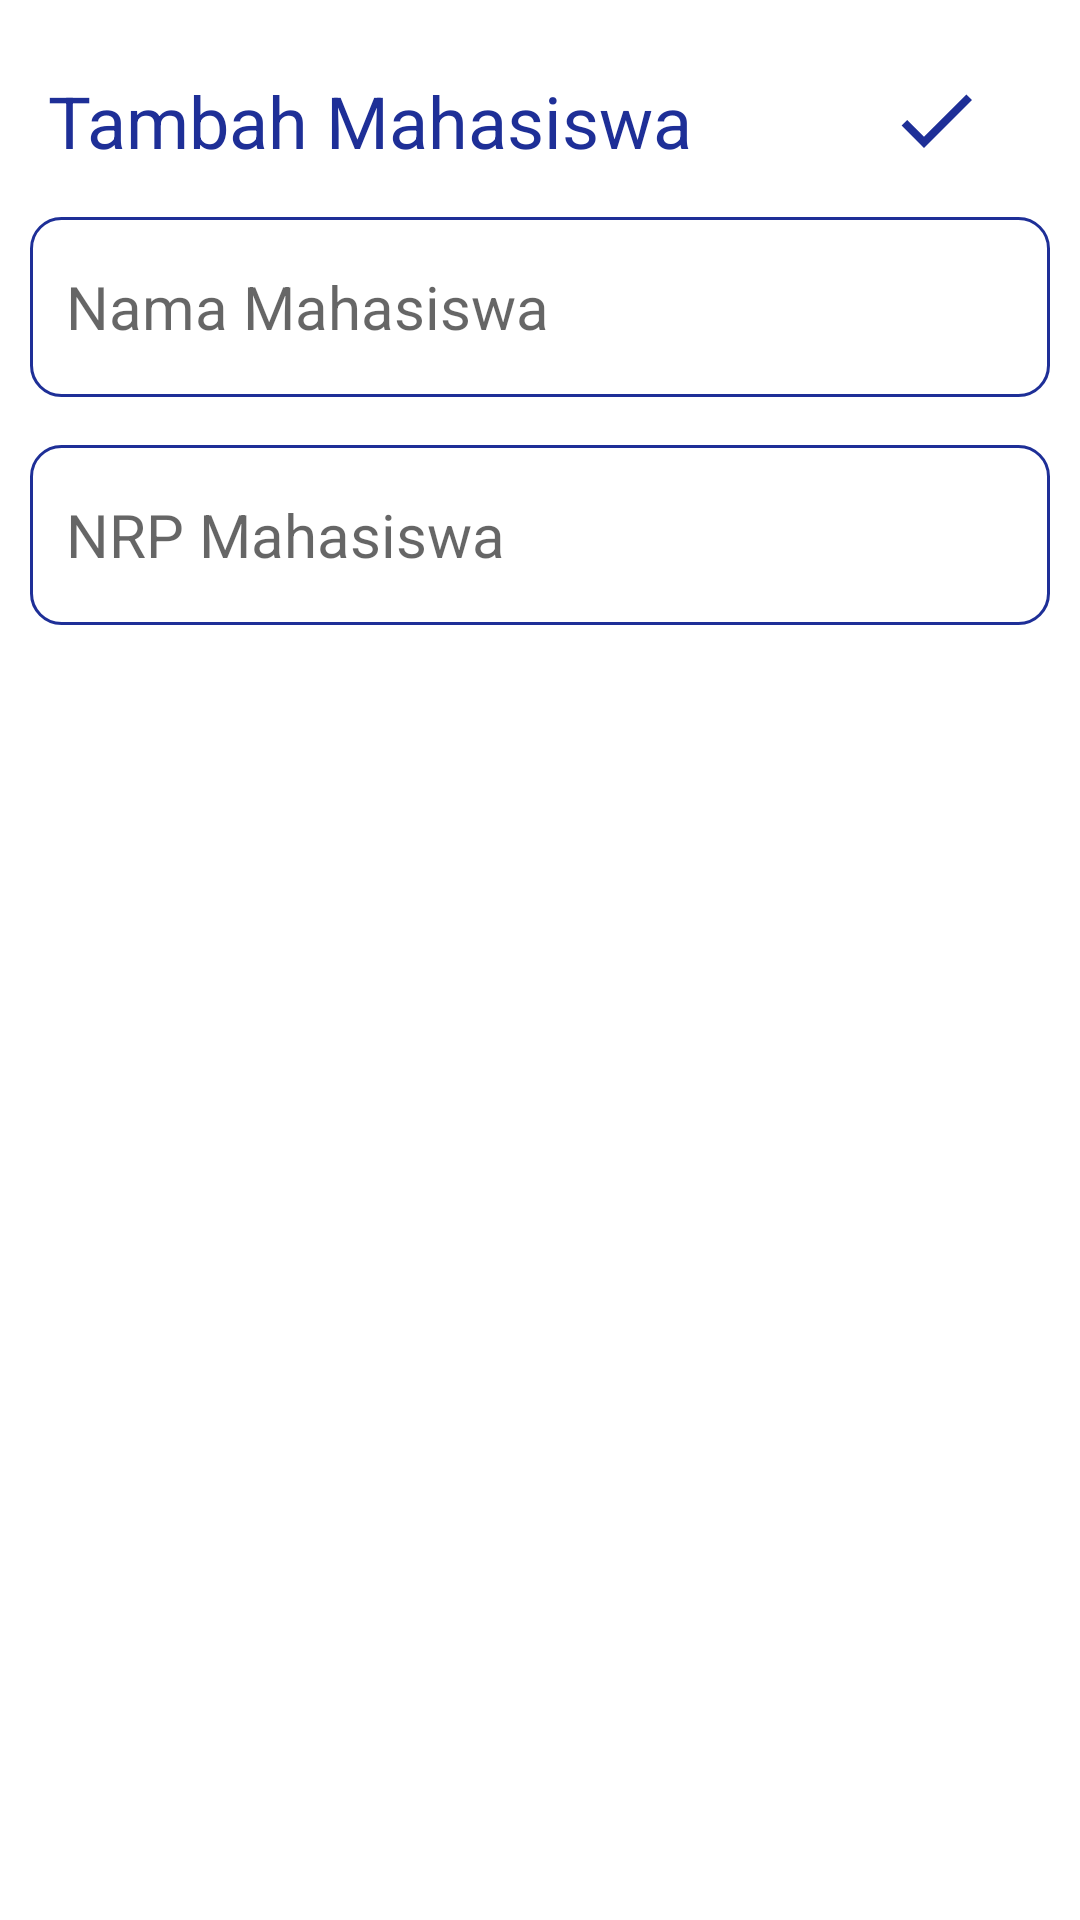

Screen size 1080×1920. Icon name, then its box in pixels as [left=x1, top=y1, right=x2, bottom=y2]:
save: [left=901, top=94, right=972, bottom=148]
